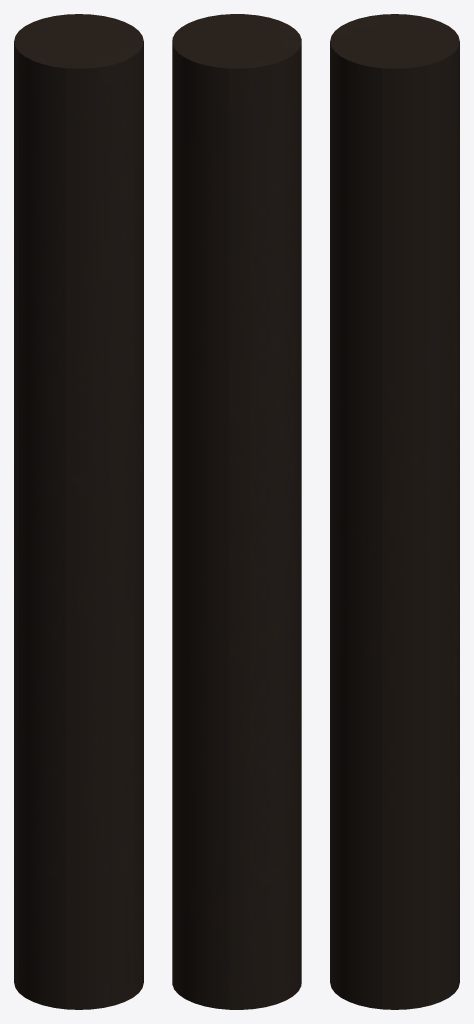
Rendered from base__front_handle_grip.glb.
3 views of the same model, side by side, from view 1: azimuth 90°, elevation 25°; view 2: azimuth 150°, elevation 25°; view 3: azimuth 270°, elevation 25° (orthographic).
Parts seen in each view (by area): view 1: world; view 2: world; view 3: world.
Boxes of the visible parts, x1,y1,x2,y2 form: world: (14, 14, 143, 1009); world: (172, 14, 301, 1009); world: (330, 14, 459, 1009).
Bounding box in the file's own units: 0.03 × 0.24 × 0.03.
1 material, 1 textured.
